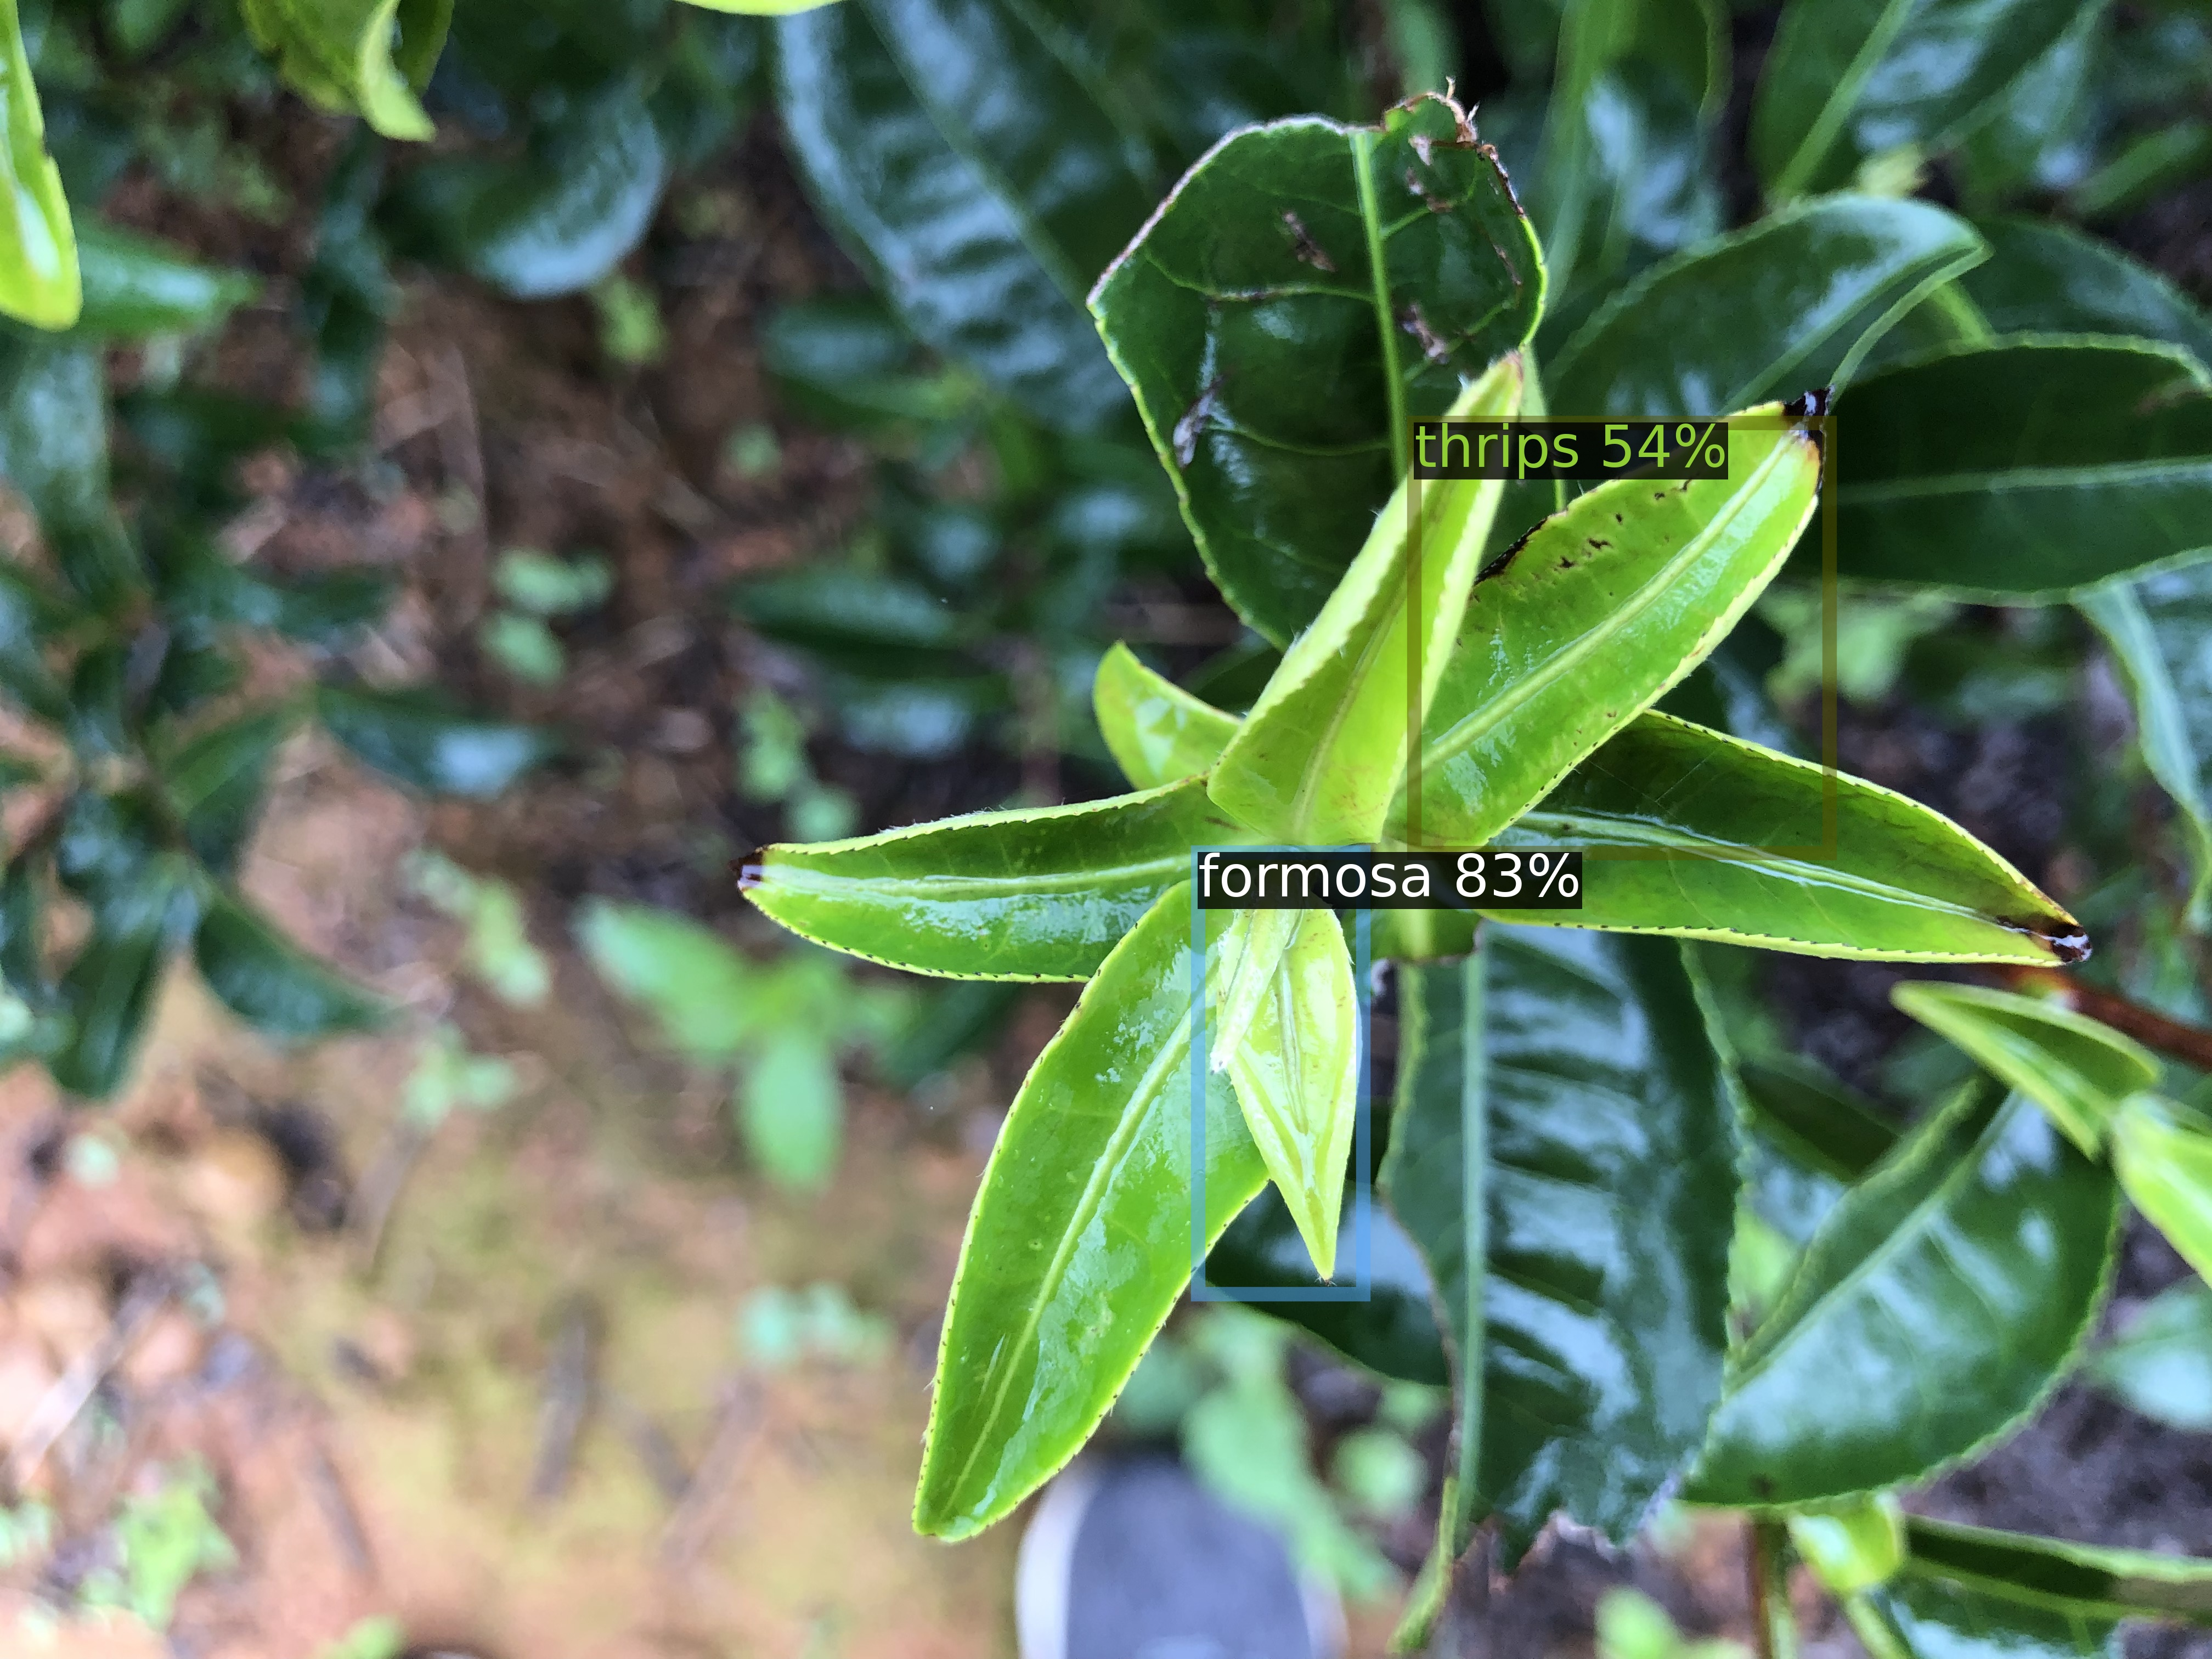formosa: (1198, 852, 1362, 1295)
thrips: (1414, 422, 1829, 852)
